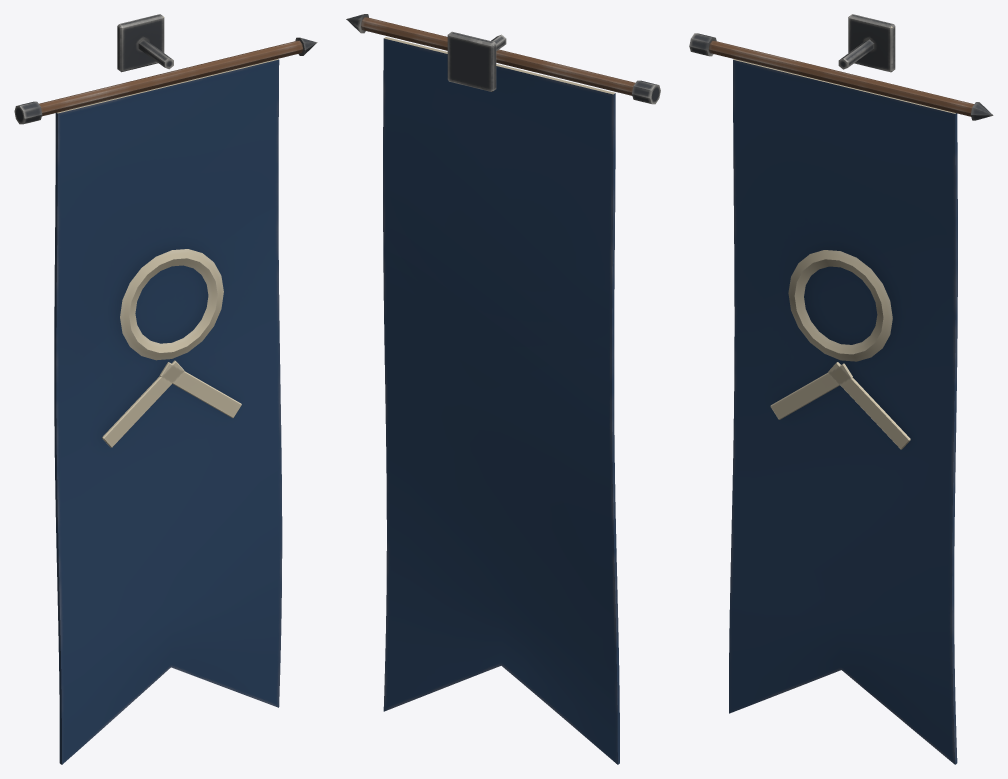
The model's file is gallows_banner_long_steel.glb.
3 views of the same model, side by side, from view 1: azimuth 30°, elevation 25°; view 2: azimuth 150°, elevation 25°; view 3: azimuth 330°, elevation 25° (orthographic). The views are drawn at different scales.
Parts seen in each view (by area): view 1: gallows_banner_long_steel; view 2: gallows_banner_long_steel; view 3: gallows_banner_long_steel.
Boxes of the visible parts, x1=… form: gallows_banner_long_steel: x1=14, y1=14, x2=317, y2=764; gallows_banner_long_steel: x1=346, y1=14, x2=660, y2=764; gallows_banner_long_steel: x1=689, y1=14, x2=993, y2=764.
Bounding box in the file's own units: 2.02 × 4.5 × 0.41.
Materials: 1 (1 with a texture image).
